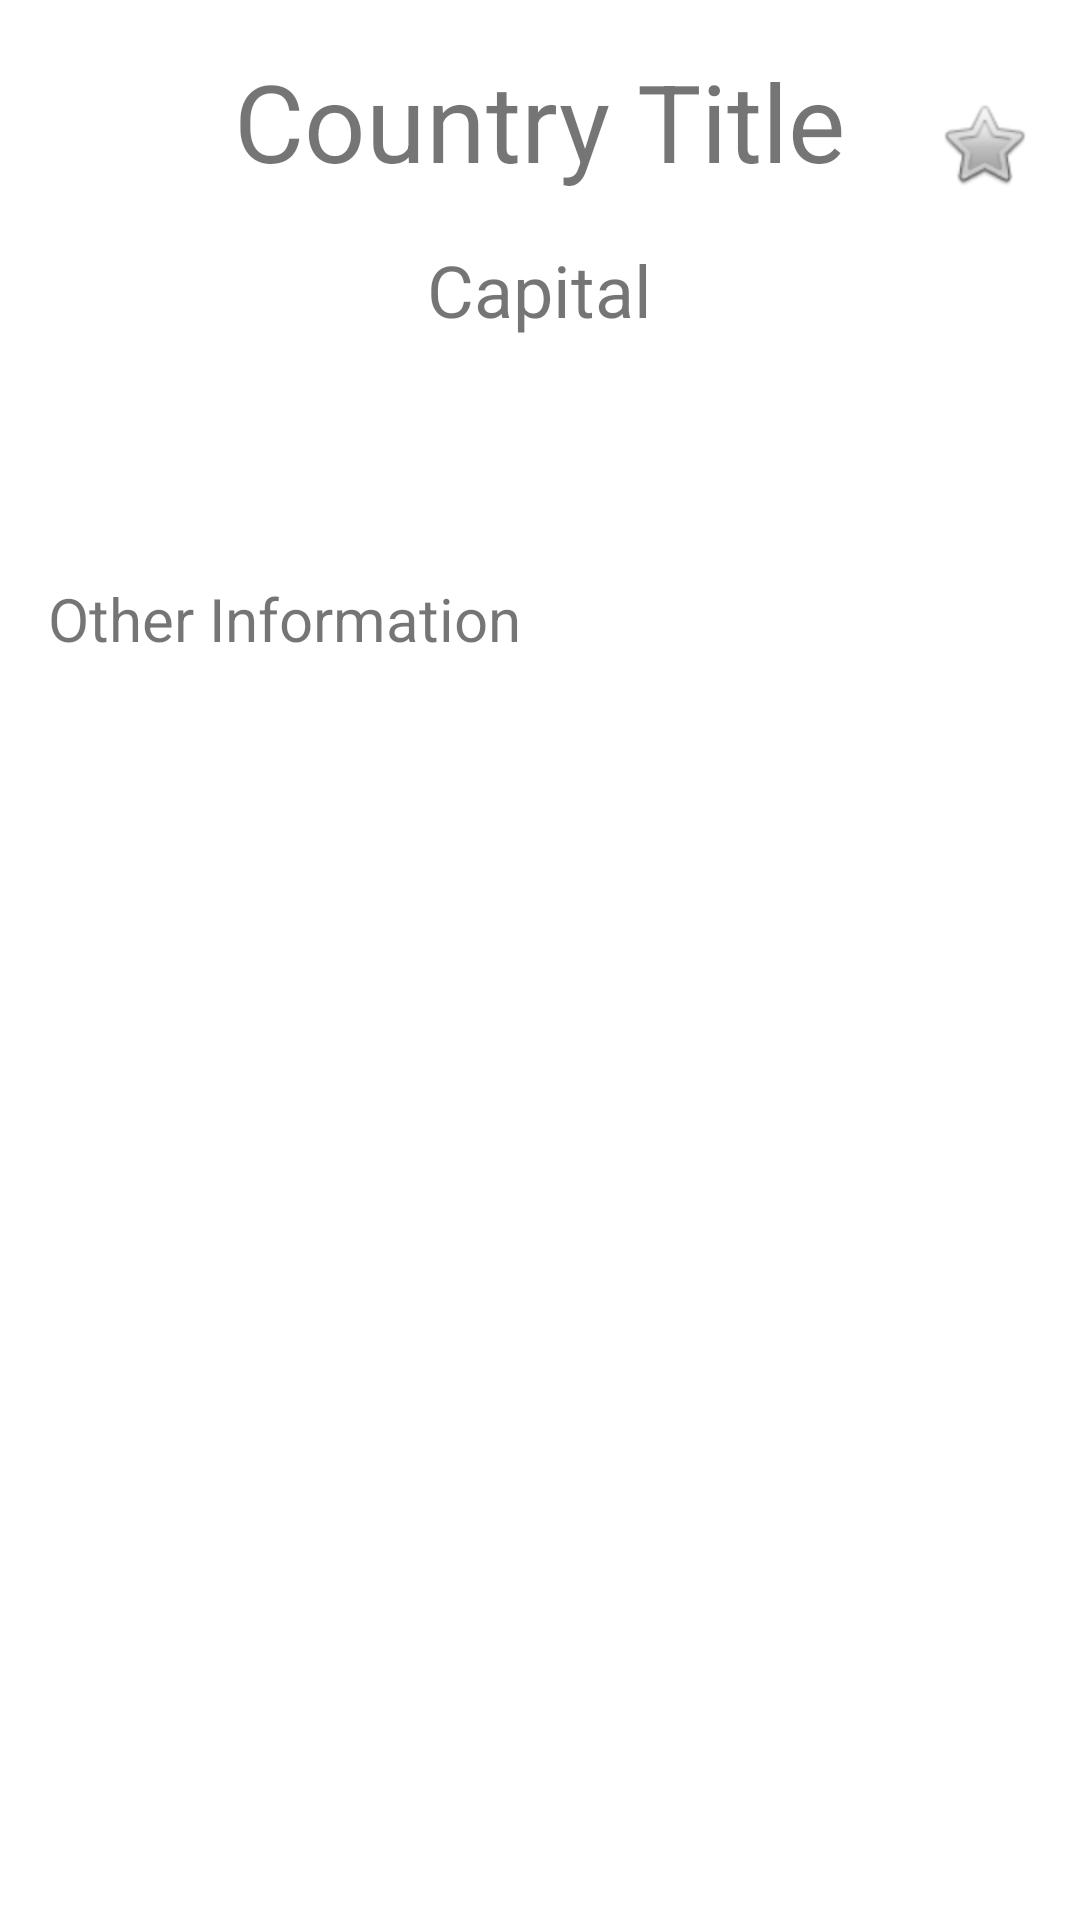

Icons on this 1080px×1920px Android screen, each with the point to tap as (x,y):
star: (985,145)
